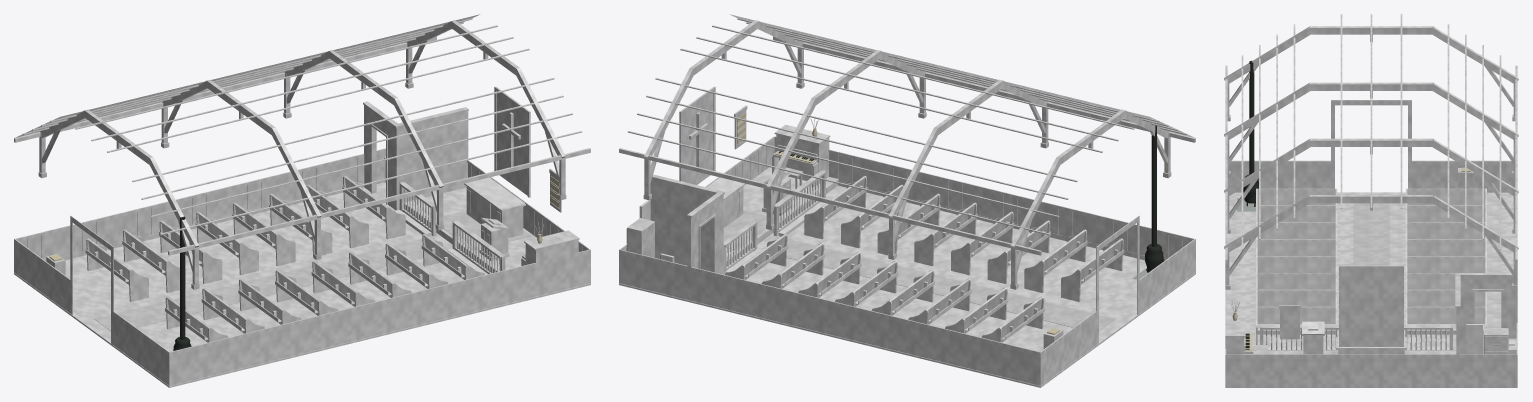
The model's file is SM_Town_Church_Interior.glb.
3 renders of one model, left to right at view 1: azimuth 30°, elevation 25°; view 2: azimuth 150°, elevation 25°; view 3: azimuth 270°, elevation 25°, orthographic. The views are drawn at different scales.
Visible parts, largest first — view 1: SM_Town_Church_Interior; view 2: SM_Town_Church_Interior; view 3: SM_Town_Church_Interior.
Part boxes in pixels (x1=…): SM_Town_Church_Interior: x1=14, y1=14, x2=590, y2=387; SM_Town_Church_Interior: x1=619, y1=14, x2=1195, y2=387; SM_Town_Church_Interior: x1=1224, y1=14, x2=1518, y2=387.
Bounding box in the file's own units: 13.8 × 5.98 × 8.87.
Materials: 12 (8 with a texture image).
